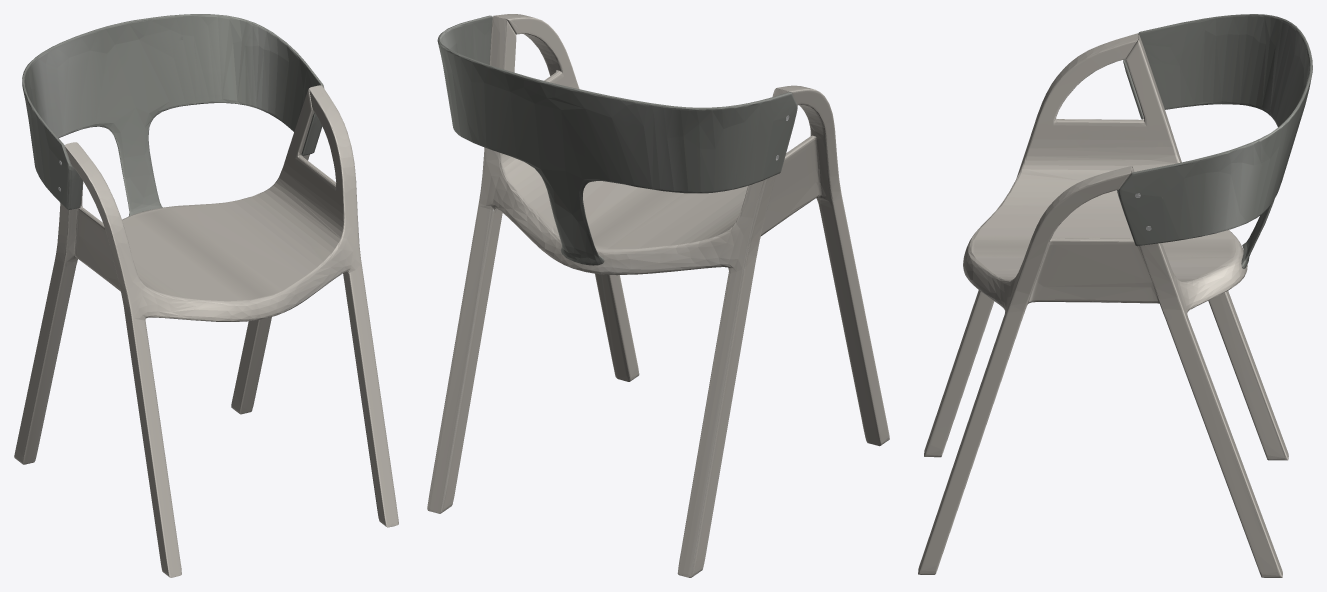
The picture shows the model from 3 angles, left to right: view 1: azimuth 30°, elevation 25°; view 2: azimuth 150°, elevation 25°; view 3: azimuth 270°, elevation 25°; orthographic projection. The views are drawn at different scales.
Parts seen in each view (by area): view 1: solid_001_wire; view 2: solid_001_wire; view 3: solid_001_wire.
Boxes of the visible parts, x1,y1,x2,y2 form: solid_001_wire: [14, 14, 398, 577]; solid_001_wire: [427, 14, 889, 577]; solid_001_wire: [918, 14, 1312, 577].
Size of the model in its own units: 0.5209 by 0.7645 by 0.6081.
1 material, 1 textured.
